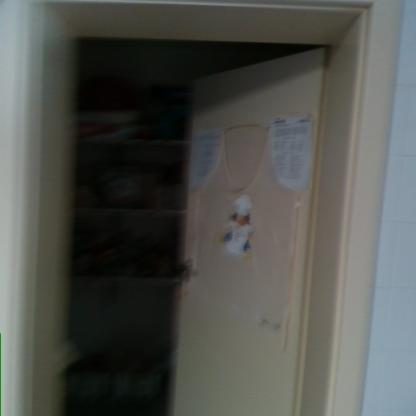semi: (16, 0, 395, 416)
